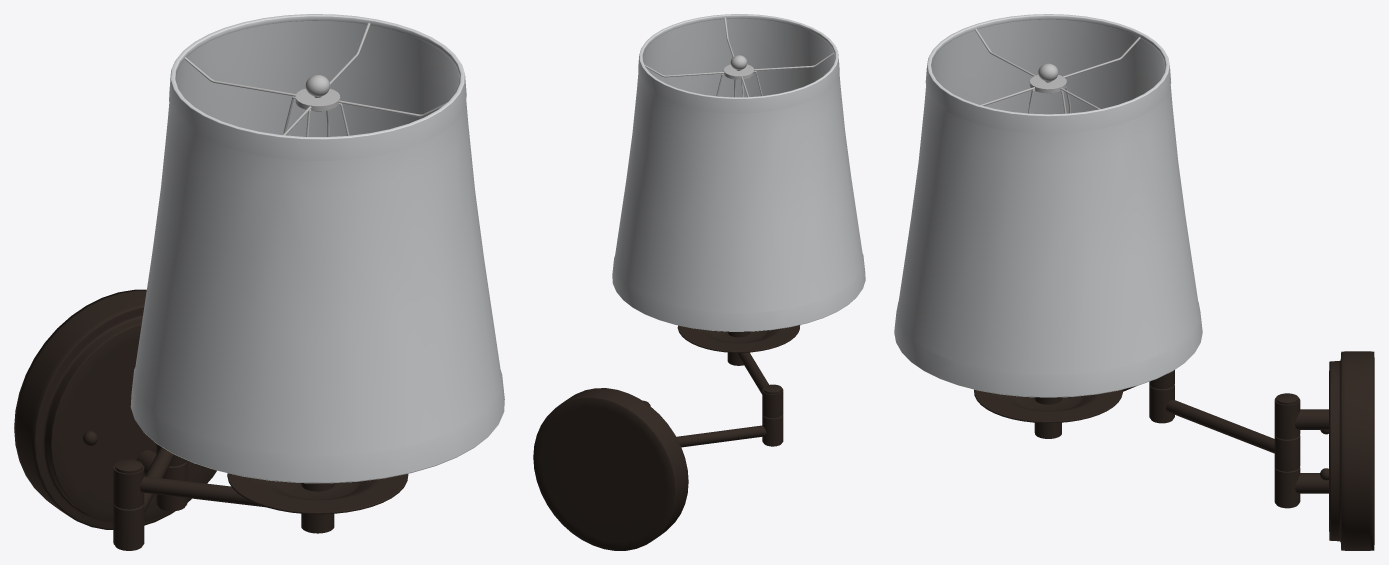
File: abo-B07M6PK8HX.glb
The picture shows the model from 3 angles, left to right: view 1: azimuth 30°, elevation 25°; view 2: azimuth 150°, elevation 25°; view 3: azimuth 270°, elevation 25°; orthographic projection. The views are drawn at different scales.
Bounding box in the file's own units: 0.1 × 0.172 × 0.157.
Materials: 1 (1 with a texture image).
